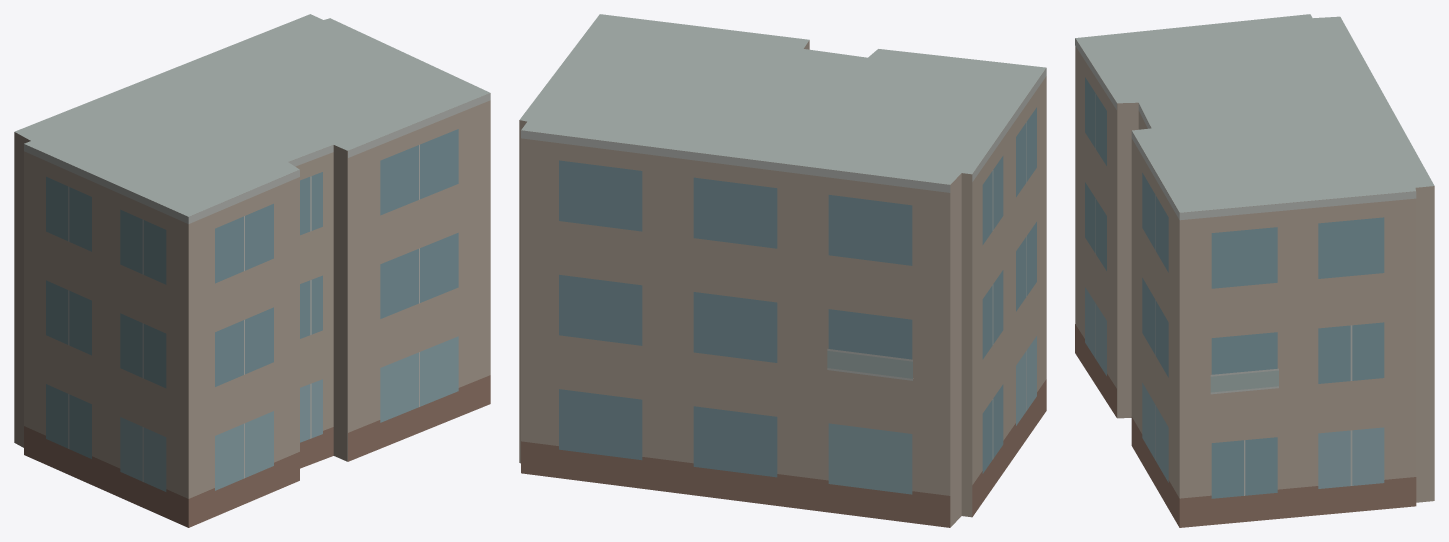
Rendered from survey-upis-32682904.glb.
3 renders of one model, left to right at view 1: azimuth 30°, elevation 25°; view 2: azimuth 150°, elevation 25°; view 3: azimuth 270°, elevation 25°, orthographic. The views are drawn at different scales.
Parts seen in each view (by area): view 1: survey-upis-32682904.tmp; view 2: survey-upis-32682904.tmp; view 3: survey-upis-32682904.tmp.
Part boxes in pixels (x1,y1,x2,y2): survey-upis-32682904.tmp: (14,14,490,527); survey-upis-32682904.tmp: (519,14,1046,527); survey-upis-32682904.tmp: (1075,14,1434,527).
Bounding box in the file's own units: 14.02 × 10.35 × 10.71.
